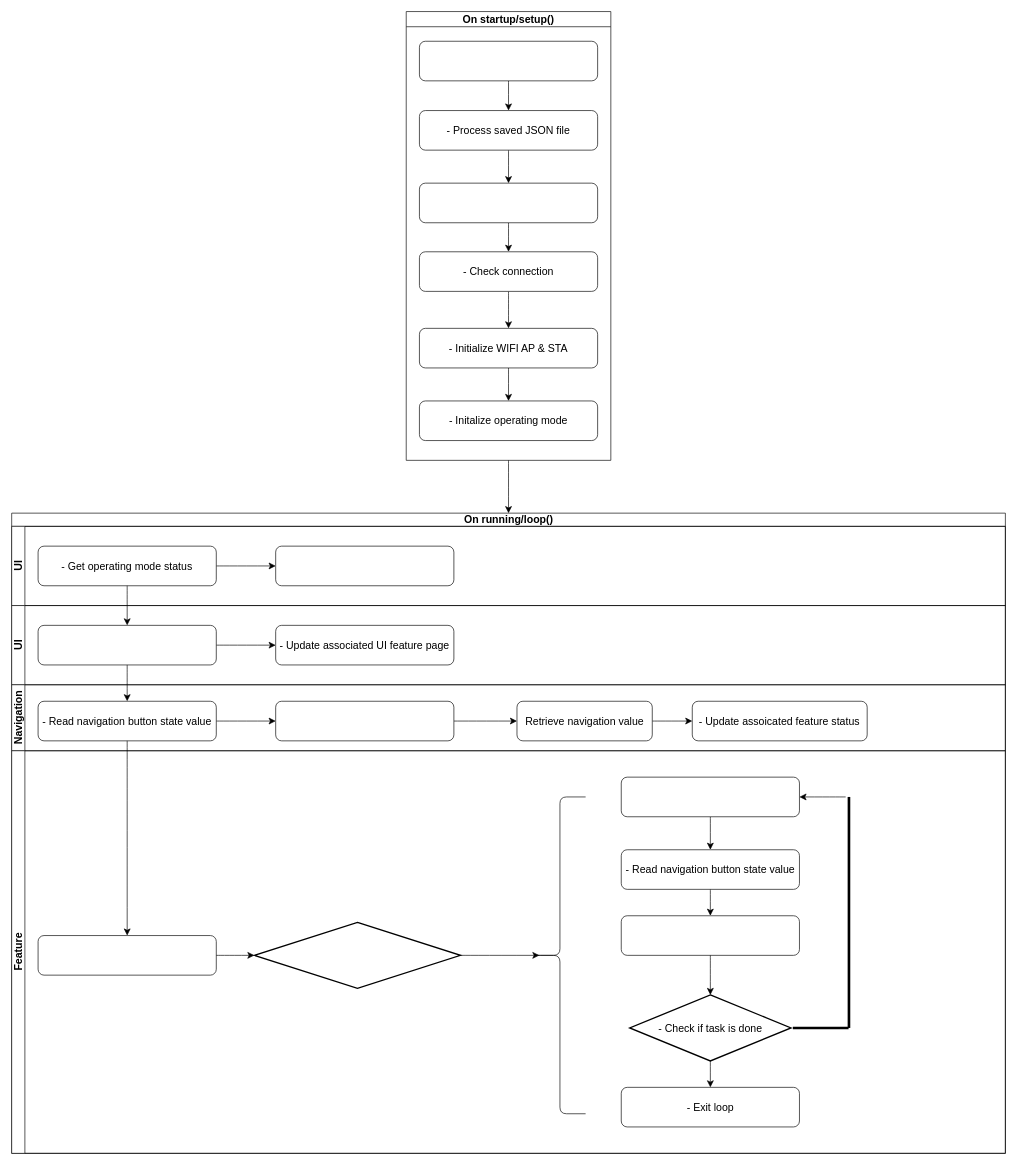
This 1017x1165 diagram has some shape labels left out. The shapes that lost their labels are listed below. From the top down, each one's box as (x1, y1, x2, y2) in pixels, then its label:
(419, 41, 598, 81): - Check FS
(419, 182, 598, 223): - Check operating mode
(275, 545, 454, 586): - Update associated UI homepage with operating mode
(37, 625, 216, 665): - Get lastest feature status
(275, 701, 454, 741): - Traverse navigation tree using button state value
(621, 776, 799, 817): - Excute task
(37, 935, 216, 975): - Get lastest feature task status
(253, 921, 461, 989): - Check if task is excutable
(621, 915, 799, 955): - Update task status
